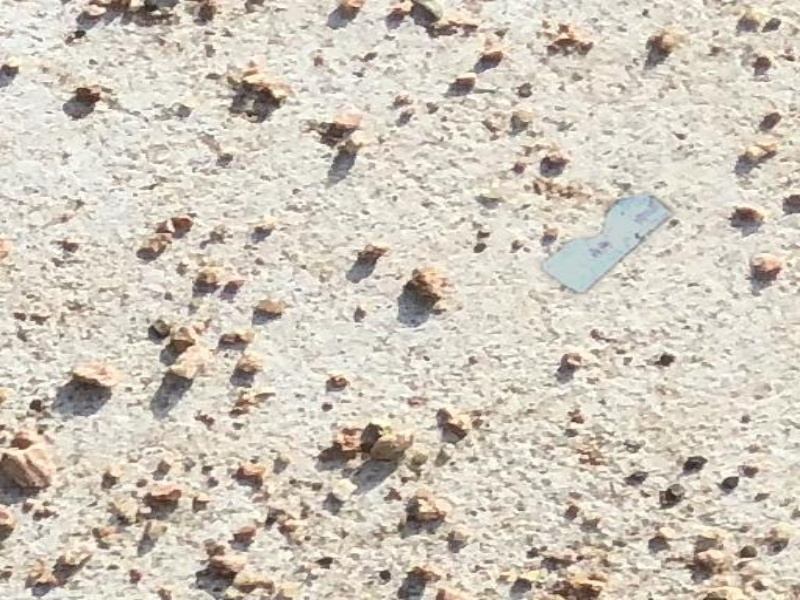cig: (552, 175, 668, 300)
